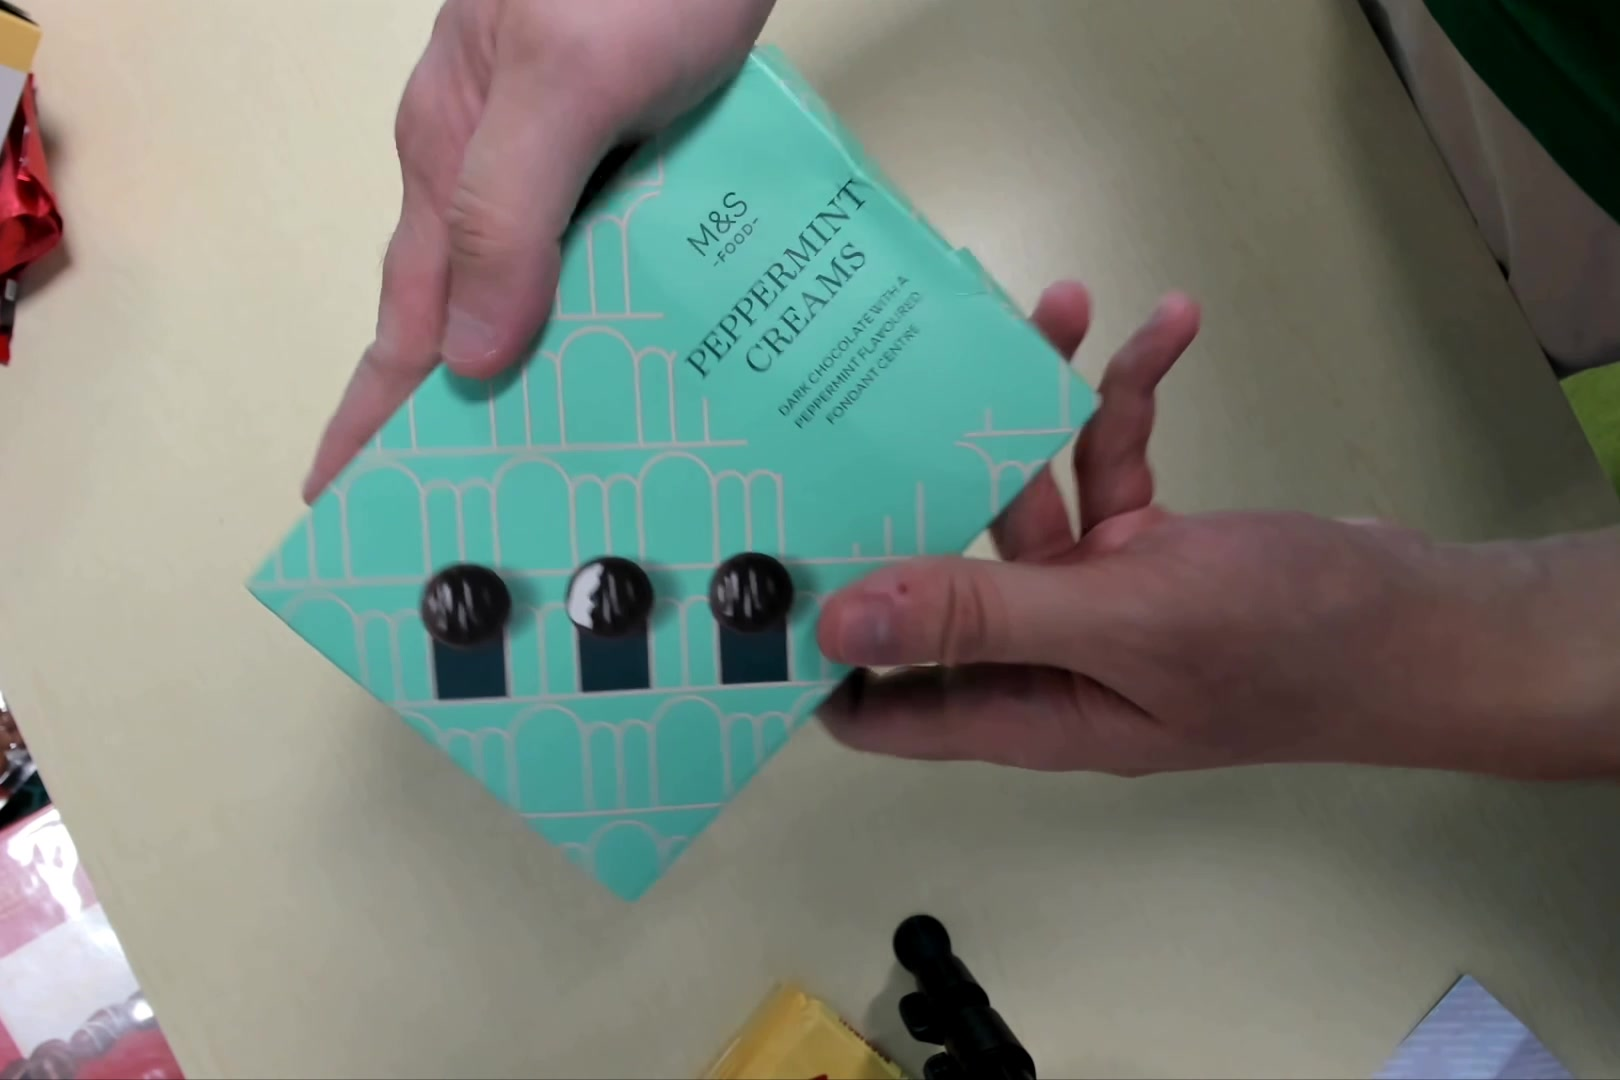SweetsChocolatesOthers_100-199g_NonHalal_NonHealthy: (248, 65, 1094, 903)
